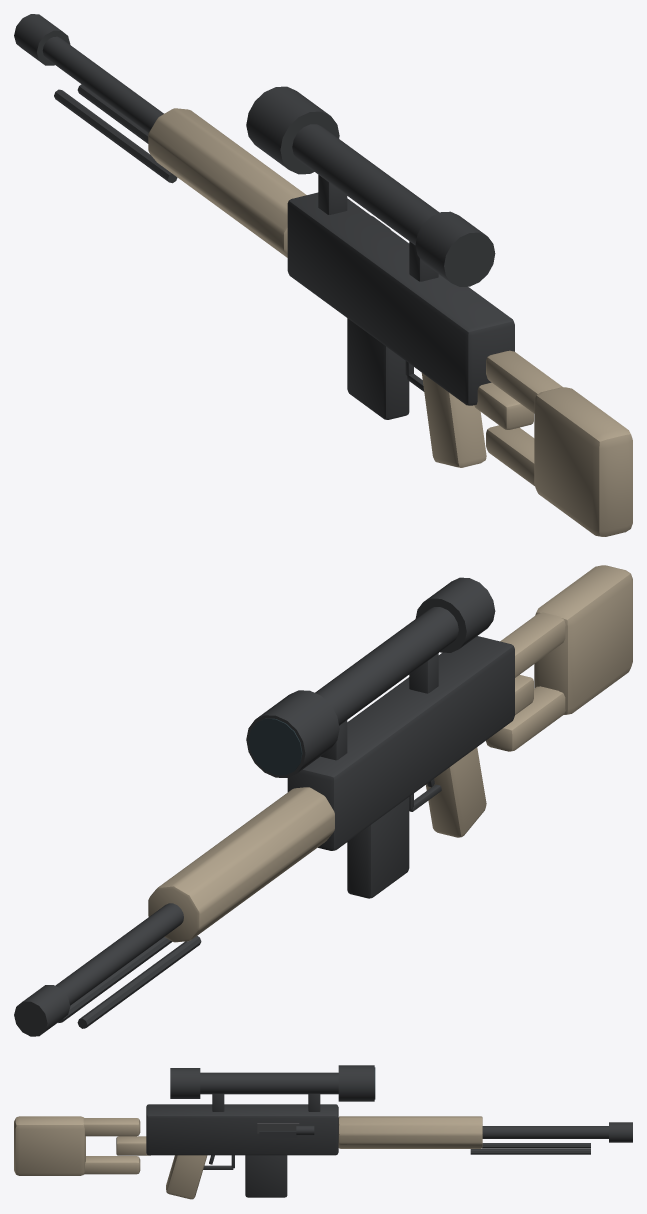
File: gun.glb
3 views of the same model, one above another, from view 1: azimuth 30°, elevation 25°; view 2: azimuth 150°, elevation 25°; view 3: azimuth 270°, elevation 25° (orthographic). The views are drawn at different scales.
Parts seen in each view (by area): view 1: marksman; view 2: marksman; view 3: marksman.
Boxes of the visible parts, x1,y1,x2,y2 form: marksman: (14,14,632,536); marksman: (14,565,632,1036); marksman: (14,1065,632,1199).
Size of the model in its own units: 0.0731 by 0.238 by 1.03.
